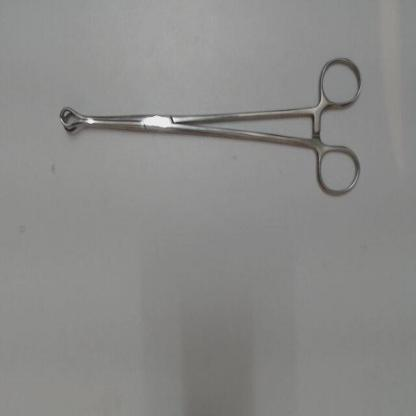8 Babcock Tissue Forceps: (54, 52, 364, 207)
